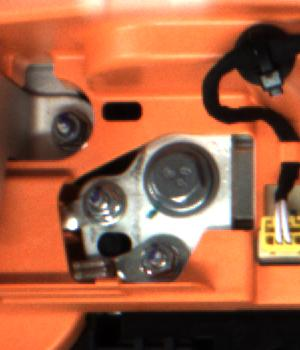nut_b: (137, 140, 230, 221)
screw_s: (83, 182, 122, 223), (136, 239, 176, 278), (51, 109, 79, 146)
